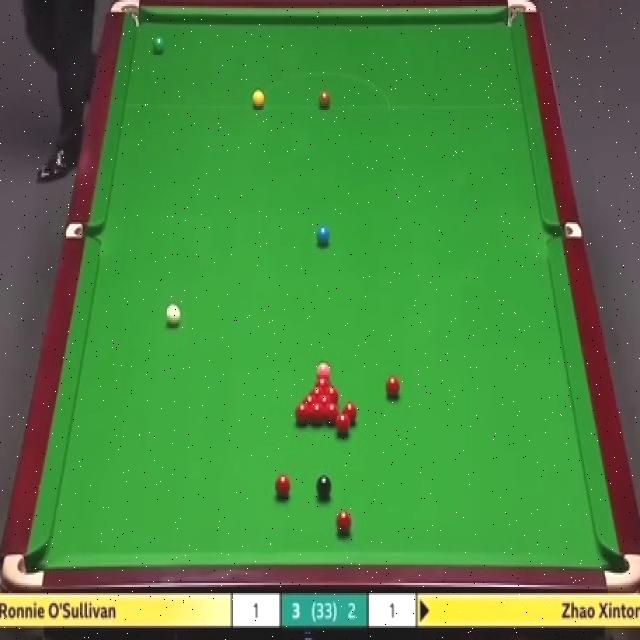black-ball: (316, 475, 332, 501)
blue-ball: (316, 226, 330, 246)
brown-ball: (318, 91, 331, 110)
green-ball: (153, 37, 164, 55)
pink-ball: (316, 361, 330, 374)
red-ball: (274, 474, 292, 499), (336, 509, 352, 536), (294, 402, 310, 425), (324, 403, 340, 426), (342, 402, 357, 426), (386, 376, 400, 401), (336, 414, 350, 437), (310, 402, 324, 423), (326, 385, 339, 401), (313, 374, 331, 385), (302, 394, 317, 404), (309, 385, 324, 395), (316, 394, 332, 403)
white-ball: (163, 300, 180, 328)
yellow-ball: (251, 90, 264, 109)
